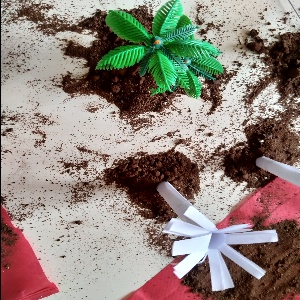plant: (95, 4, 213, 97)
weed: (141, 176, 297, 299)
